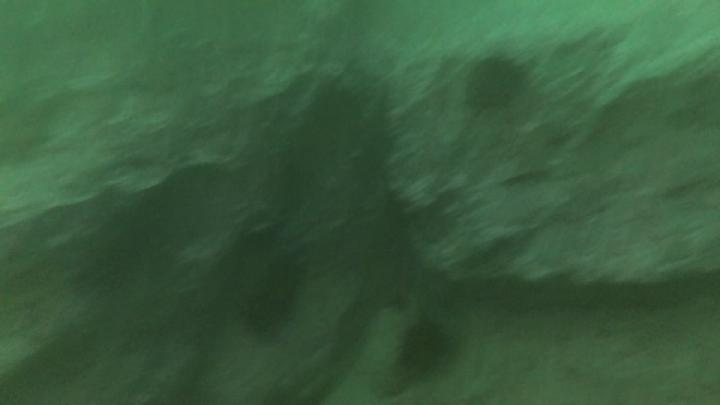echinus: (240, 291, 291, 346), (466, 57, 519, 106), (403, 325, 449, 371)
